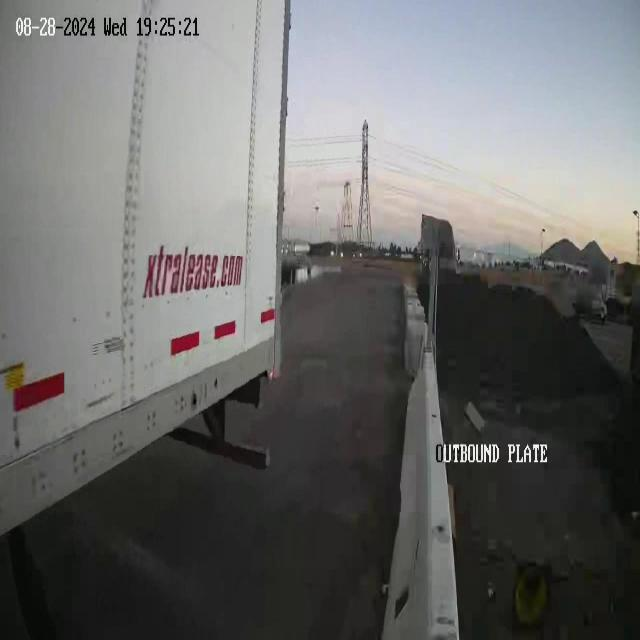TRUCK_OUT: (0, 1, 292, 534)
